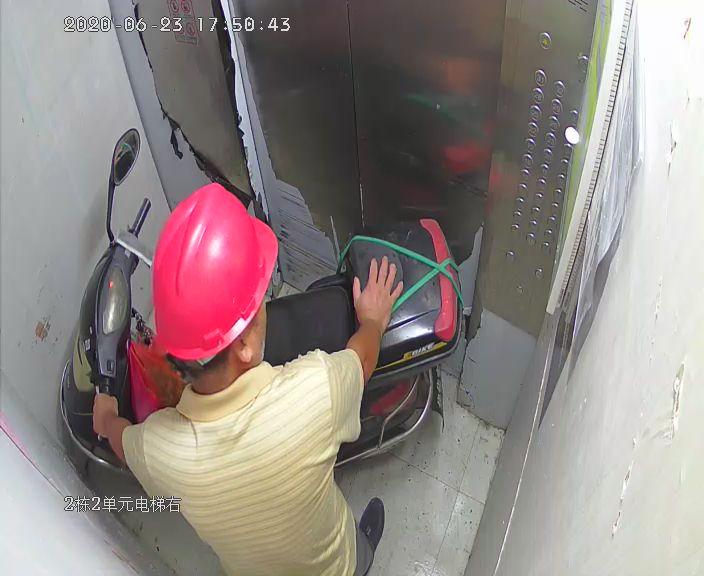Electric-bicycle: (58, 131, 450, 464)
